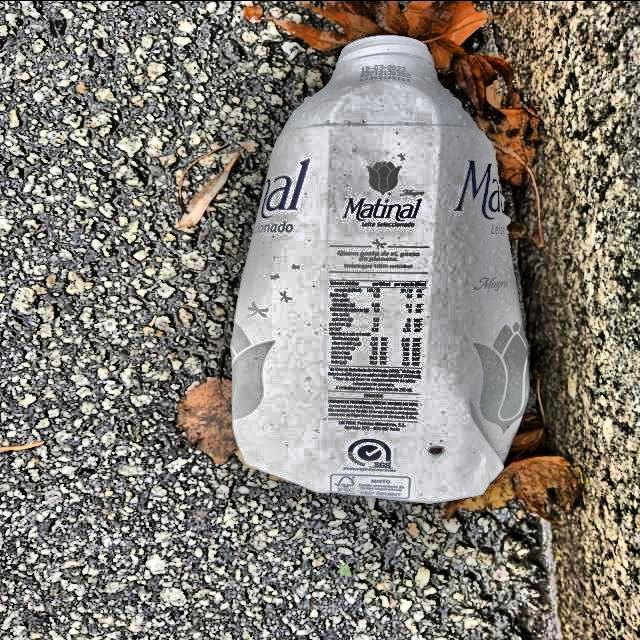plastic: (229, 34, 532, 507)
